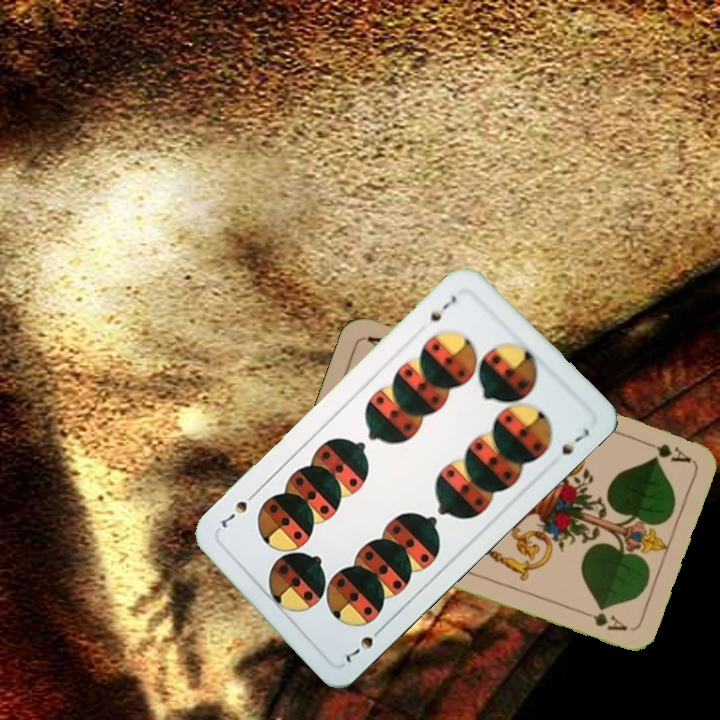GA: (636, 436, 693, 465)
S7: (341, 622, 387, 666), (423, 291, 459, 326)
